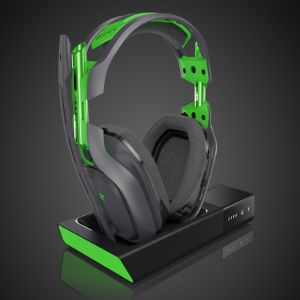headset: (50, 8, 220, 244)
